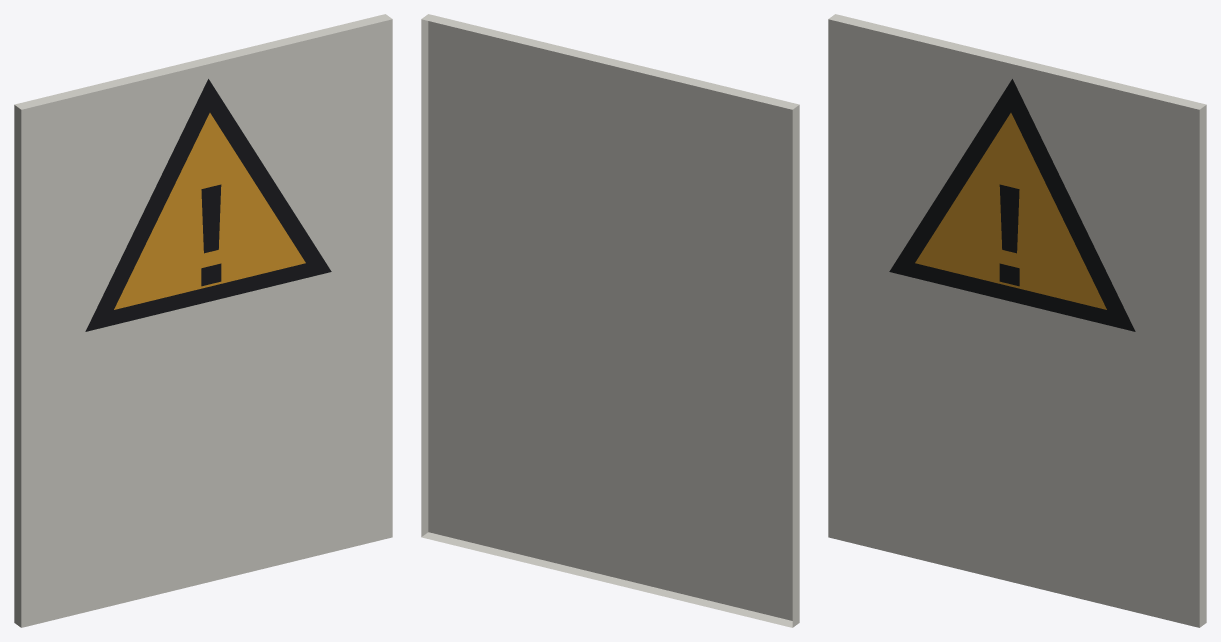
The model's file is dc_sign_warning.glb.
3 views of the same model, side by side, from view 1: azimuth 30°, elevation 25°; view 2: azimuth 150°, elevation 25°; view 3: azimuth 330°, elevation 25° (orthographic).
Parts seen in each view (by area): view 1: dc_sign_warning; view 2: dc_sign_warning; view 3: dc_sign_warning.
Boxes of the visible parts, x1=… form: dc_sign_warning: x1=14, y1=14, x2=392, y2=627; dc_sign_warning: x1=421, y1=14, x2=799, y2=627; dc_sign_warning: x1=828, y1=14, x2=1206, y2=627.
Bounding box in the file's own units: 0.3 × 0.4 × 0.016.
